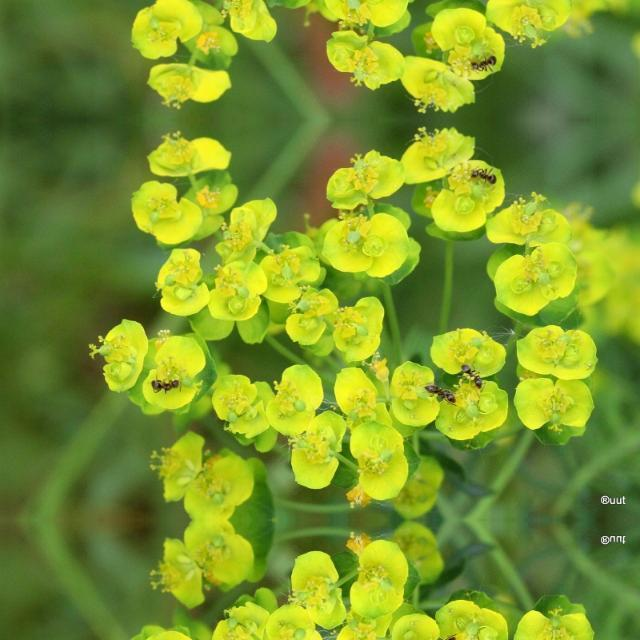Lasius: (453, 358, 491, 392), (459, 158, 509, 182), (459, 56, 509, 80)
